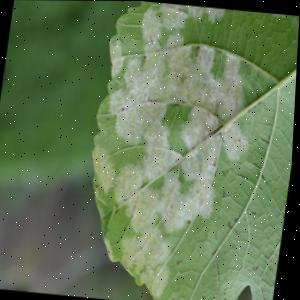Folha: (72, 0, 300, 300)
Fungo: (97, 29, 262, 262), (117, 227, 180, 299), (87, 144, 121, 194), (138, 4, 164, 44), (102, 36, 125, 75), (156, 2, 188, 30), (185, 4, 223, 24), (102, 234, 117, 261), (228, 219, 241, 234), (247, 207, 258, 215), (270, 12, 286, 17), (194, 45, 200, 56), (177, 258, 185, 265), (231, 242, 238, 250), (254, 264, 261, 271), (222, 188, 227, 196)
